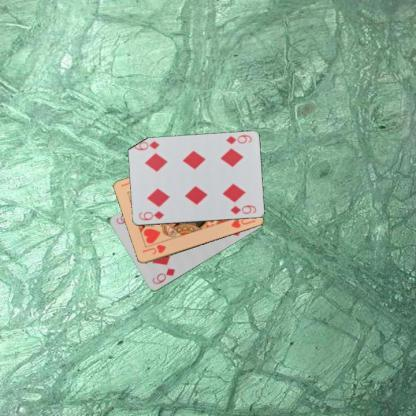6d: (150, 266, 176, 286), (223, 132, 252, 146), (136, 208, 164, 222)
Jh: (140, 242, 167, 256)
